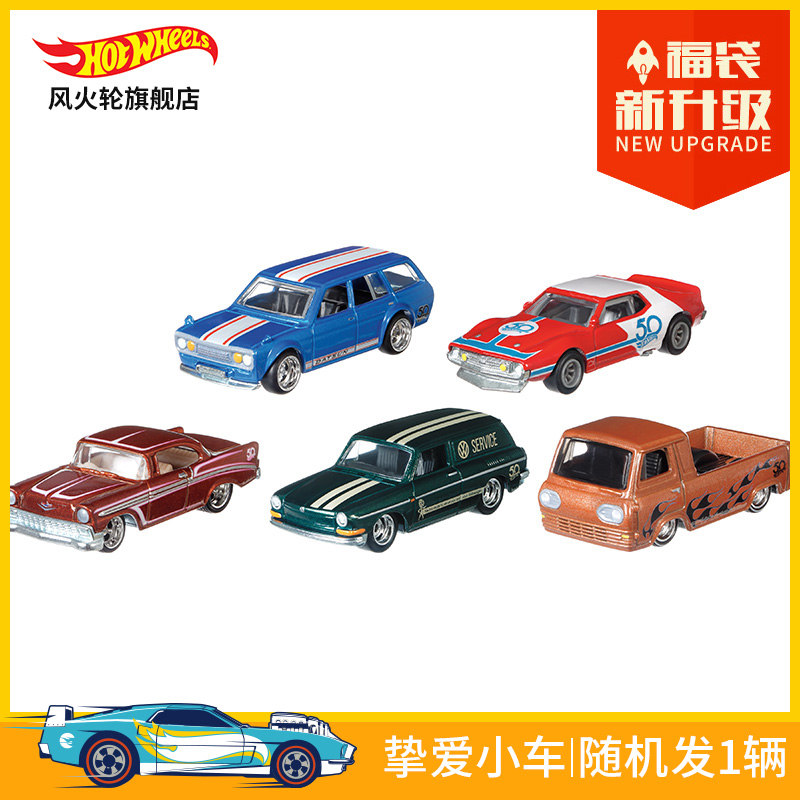Car: (264, 405, 534, 563), (164, 239, 437, 391), (530, 408, 792, 559), (7, 416, 260, 557), (443, 266, 709, 400)
